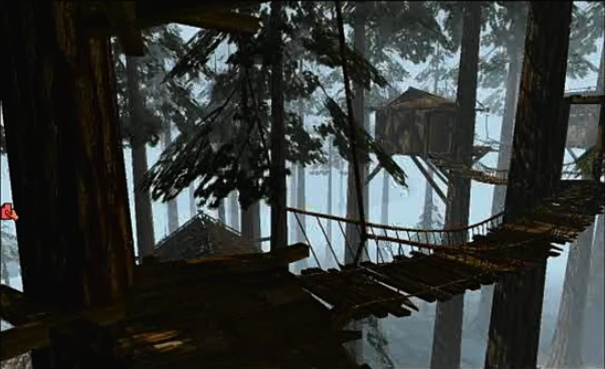Keep: (0, 199, 19, 222)
